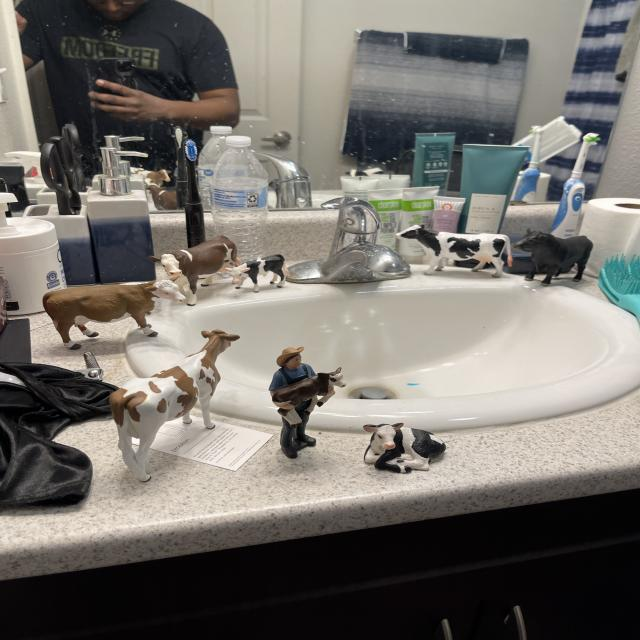cow: (86, 308, 273, 485), (41, 269, 190, 354), (146, 208, 247, 308), (393, 225, 515, 283), (509, 228, 594, 291), (363, 423, 446, 471), (269, 369, 340, 412), (228, 253, 290, 297)
person: (261, 348, 315, 391)
